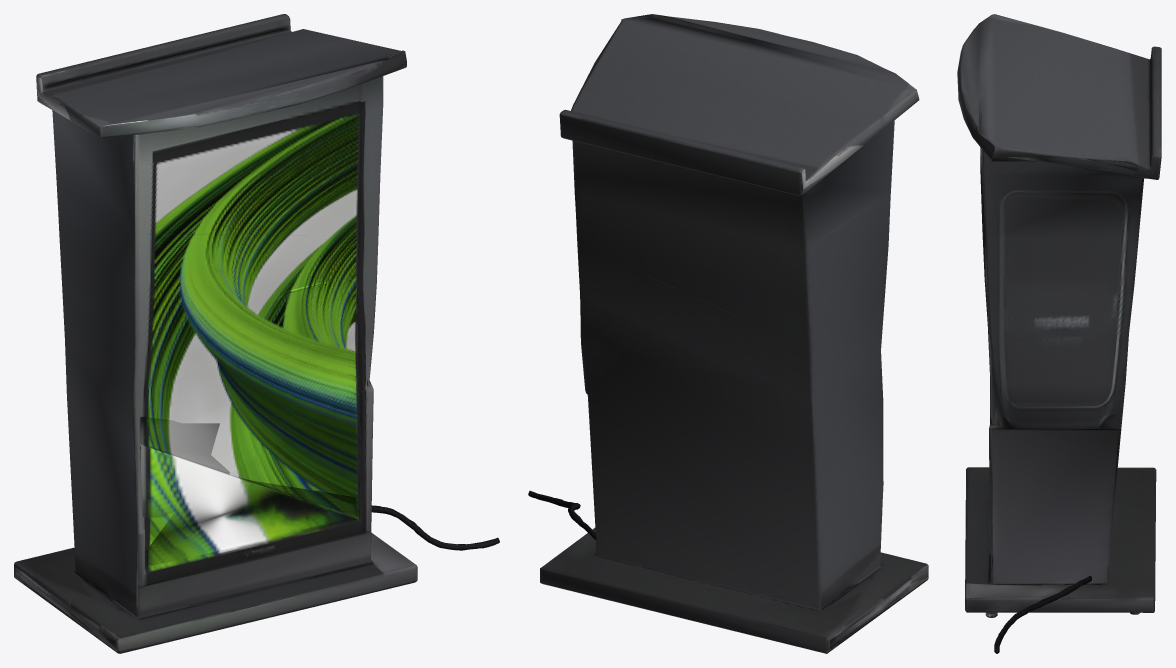
File: Emerald_Spiral_Display_podium_0607153429_texture.glb
3 views of the same model, side by side, from view 1: azimuth 30°, elevation 25°; view 2: azimuth 150°, elevation 25°; view 3: azimuth 270°, elevation 25° (orthographic). The views are drawn at different scales.
Parts seen in each view (by area): view 1: Mesh_0; view 2: Mesh_0; view 3: Mesh_0.
Part boxes in pixels (bbox=[...]): Mesh_0: bbox=[14, 14, 499, 653]; Mesh_0: bbox=[528, 14, 928, 653]; Mesh_0: bbox=[957, 14, 1161, 653].
Bounding box in the file's own units: 0.8032 × 1.02 × 0.3922.
1 material, 1 textured.
